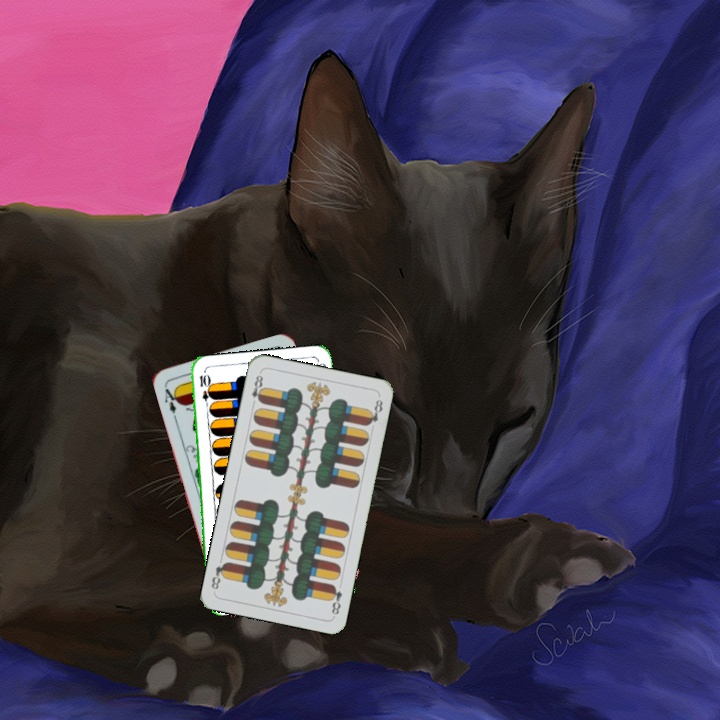E10: (196, 370, 212, 411)
E8: (247, 371, 267, 409), (326, 581, 345, 617)
EA: (160, 381, 182, 416)
